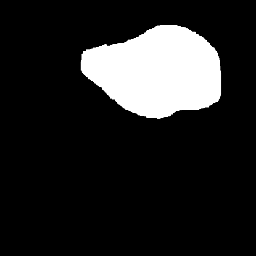mass: (106, 24, 216, 116)
